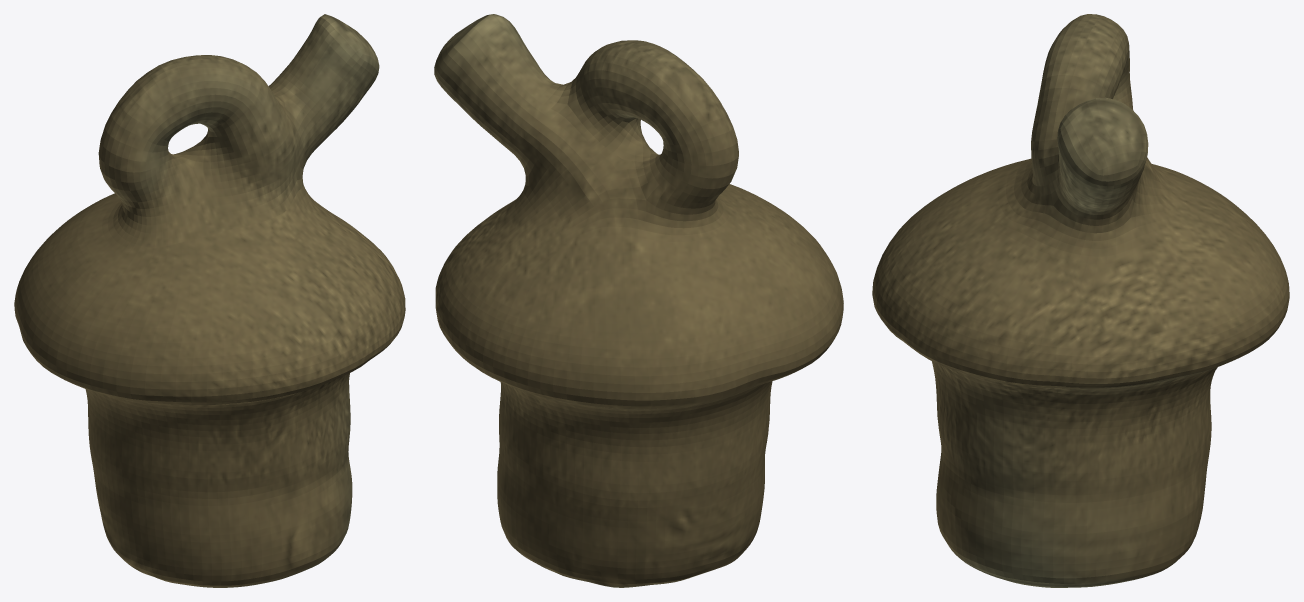
The model's file is SM_Celadon_Kettle_cap.fbx.
3 renders of one model, left to right at view 1: azimuth 30°, elevation 25°; view 2: azimuth 150°, elevation 25°; view 3: azimuth 270°, elevation 25°, orthographic. The views are drawn at different scales.
Visible parts, largest first — view 1: SM_Celadon_Kettle_cap; view 2: SM_Celadon_Kettle_cap; view 3: SM_Celadon_Kettle_cap.
Part boxes in pixels (bbox=[...]): SM_Celadon_Kettle_cap: bbox=[14, 14, 405, 587]; SM_Celadon_Kettle_cap: bbox=[434, 14, 843, 587]; SM_Celadon_Kettle_cap: bbox=[872, 14, 1289, 587].
Bounding box in the file's own units: 2.78 × 2.76 × 3.77.
Materials: 1 (1 with a texture image).
